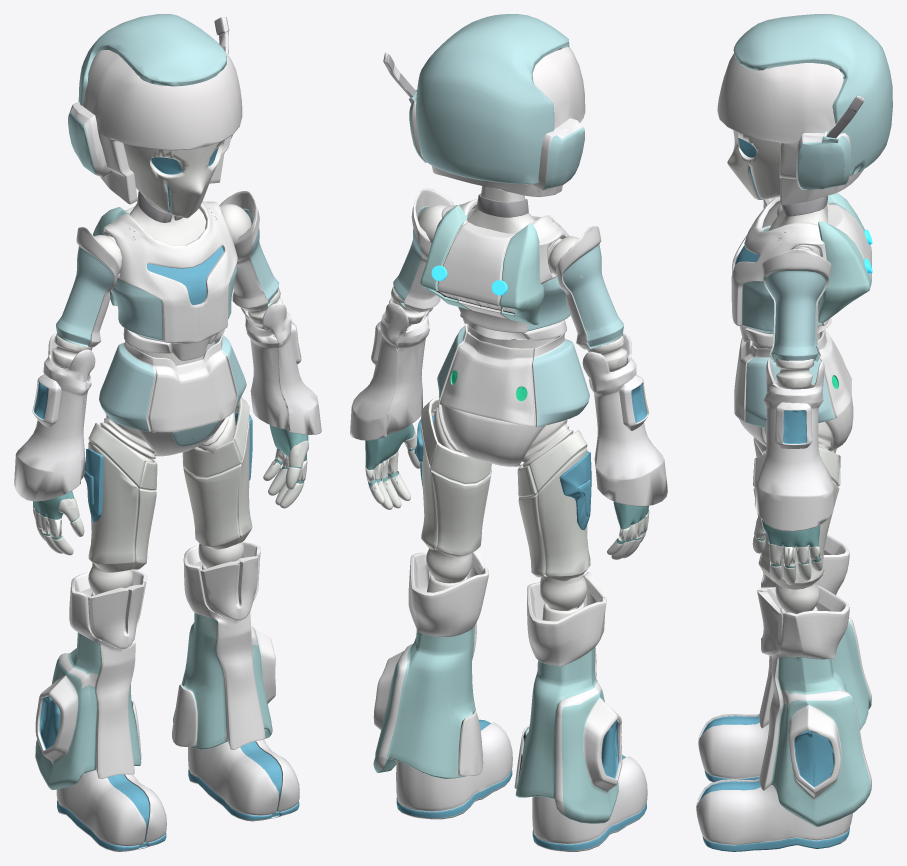
File: sani_robot.glb
The picture shows the model from 3 angles, left to right: view 1: azimuth 30°, elevation 25°; view 2: azimuth 150°, elevation 25°; view 3: azimuth 270°, elevation 25°; orthographic projection. The views are drawn at different scales.
Parts seen in each view (by area): view 1: Object_4, Object_24, Object_6, Object_8, Object_28, Object_10; view 2: Object_4, Object_24, Object_8, Object_14, Object_28, Object_6, Object_10; view 3: Object_4, Object_24, Object_6, Object_28, Object_8, Object_14, Object_10.
Part boxes in pixels (box(x1,y1,x2,y2)): Object_4: box(14, 14, 321, 851); Object_24: box(35, 542, 275, 789); Object_6: box(103, 201, 237, 360); Object_8: box(99, 335, 246, 432); Object_28: box(56, 191, 278, 347); Object_10: box(136, 418, 225, 456); Object_4: box(350, 14, 667, 851); Object_24: box(373, 549, 622, 823); Object_8: box(437, 324, 589, 427); Object_14: box(420, 205, 544, 324); Object_28: box(393, 188, 623, 349); Object_6: box(441, 199, 570, 340); Object_10: box(441, 405, 547, 466); Object_4: box(696, 14, 892, 851); Object_24: box(757, 534, 871, 826); Object_6: box(731, 197, 831, 346); Object_28: box(762, 197, 831, 363); Object_8: box(734, 329, 851, 427); Object_14: box(818, 192, 871, 322); Object_10: box(739, 396, 853, 451).
Size of the model in its own units: 2.38 by 5.96 by 1.35.
8 materials, 8 textured.
